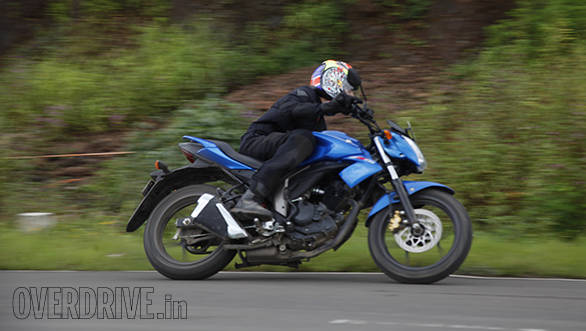Bike: (127, 129, 475, 286)
